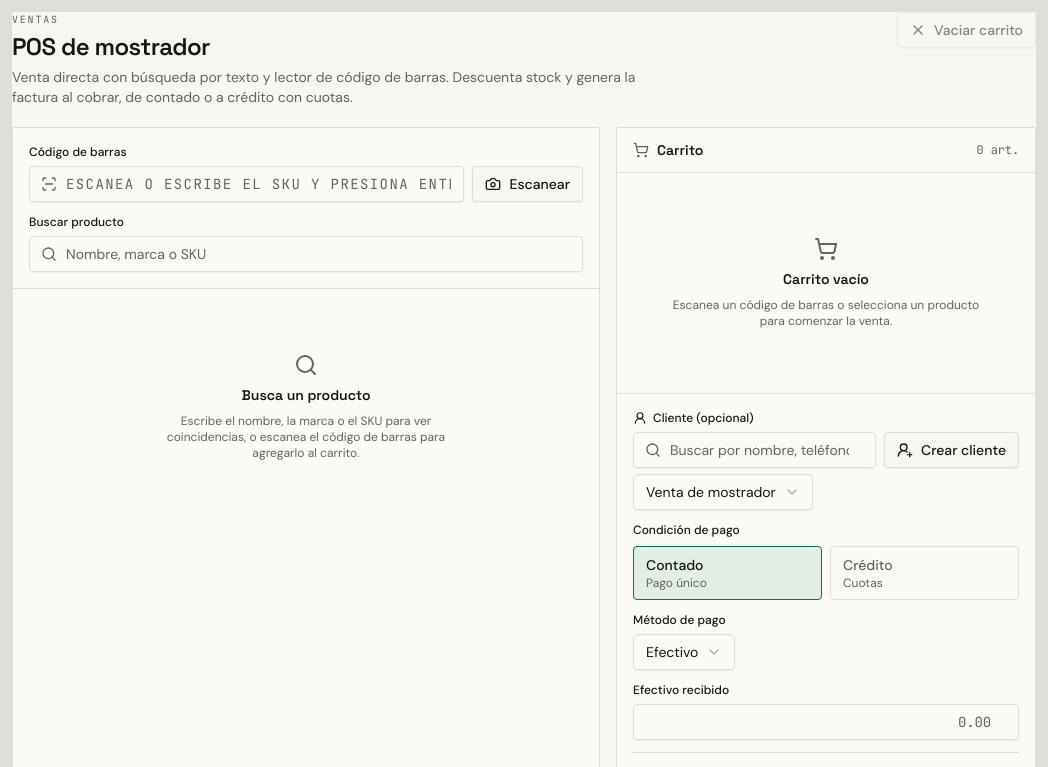
it: PosPage product search (cover) › forwards a code typed in the search box verbatim and renders its product
In the field with test id "pos.search_input": coordinates (306, 254) x1=29 y1=236 x2=583 y2=272, type "7701234567890"
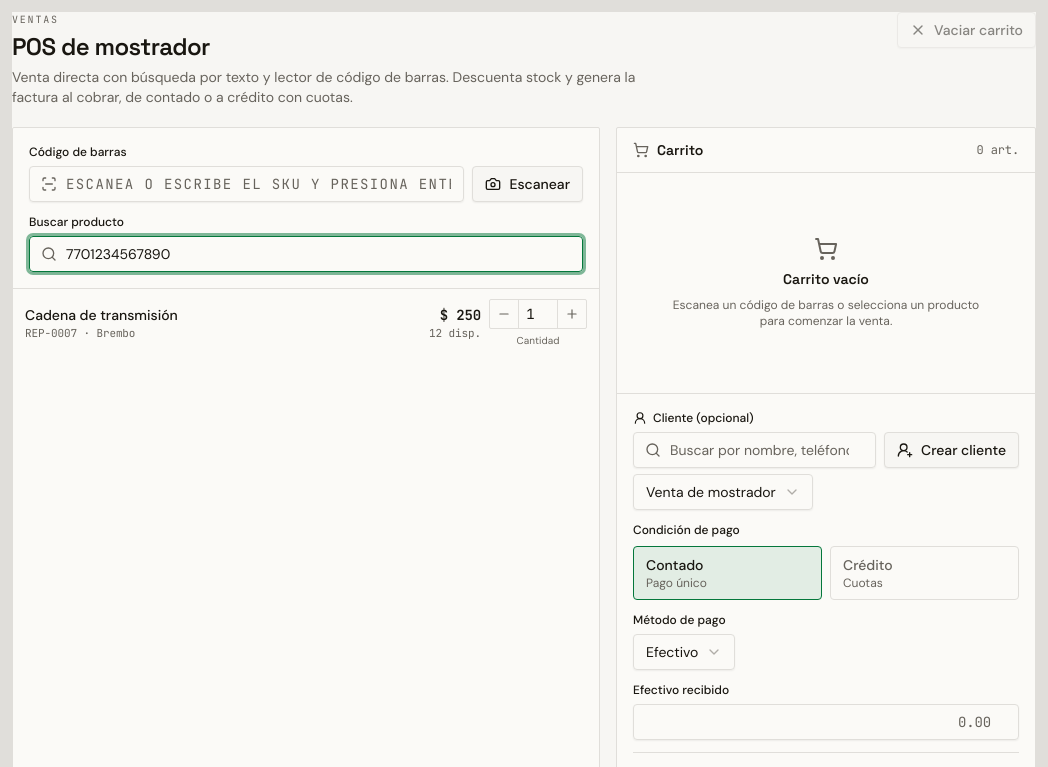
expect the text "Cadena de transmisión" is shown: met, box x1=25 y1=306 x2=178 y2=324
